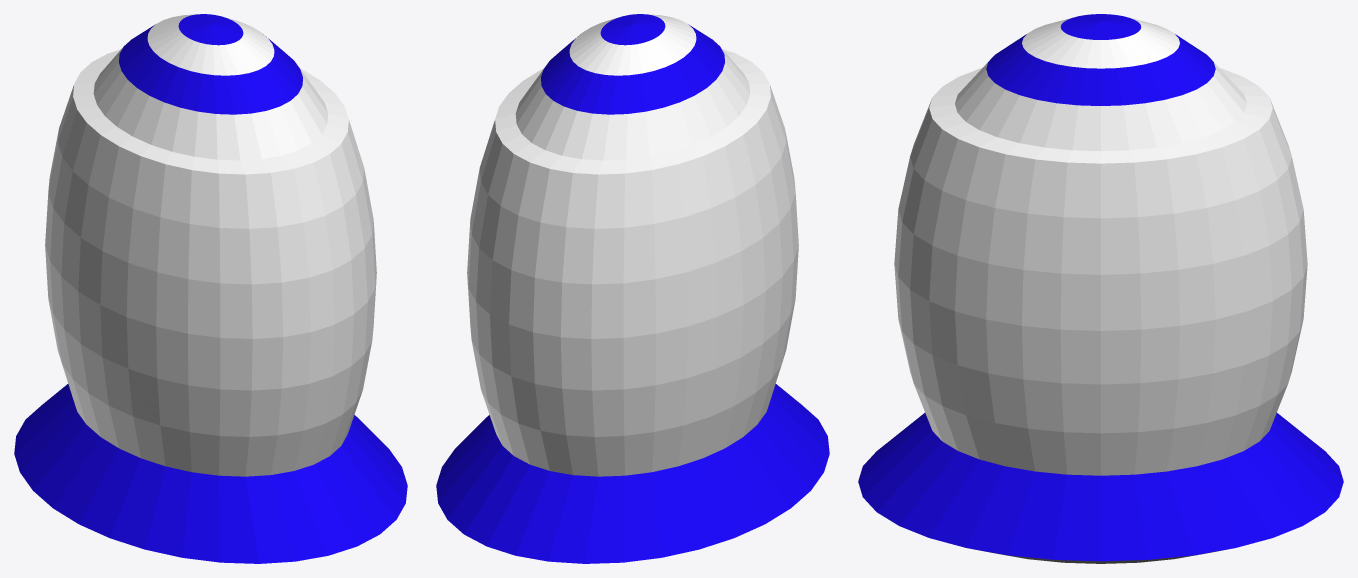
File: Protective_Missile_Capsule 1.fbx
The picture shows the model from 3 angles, left to right: view 1: azimuth 30°, elevation 25°; view 2: azimuth 150°, elevation 25°; view 3: azimuth 270°, elevation 25°; orthographic projection. The views are drawn at different scales.
Parts seen in each view (by area): view 1: Sphere; view 2: Sphere; view 3: Sphere.
Part boxes in pixels (bbox=[...]): Sphere: bbox=[14, 14, 407, 563]; Sphere: bbox=[436, 14, 829, 563]; Sphere: bbox=[858, 14, 1343, 563].
Bounding box in the file's own units: 267 × 395 × 343.
